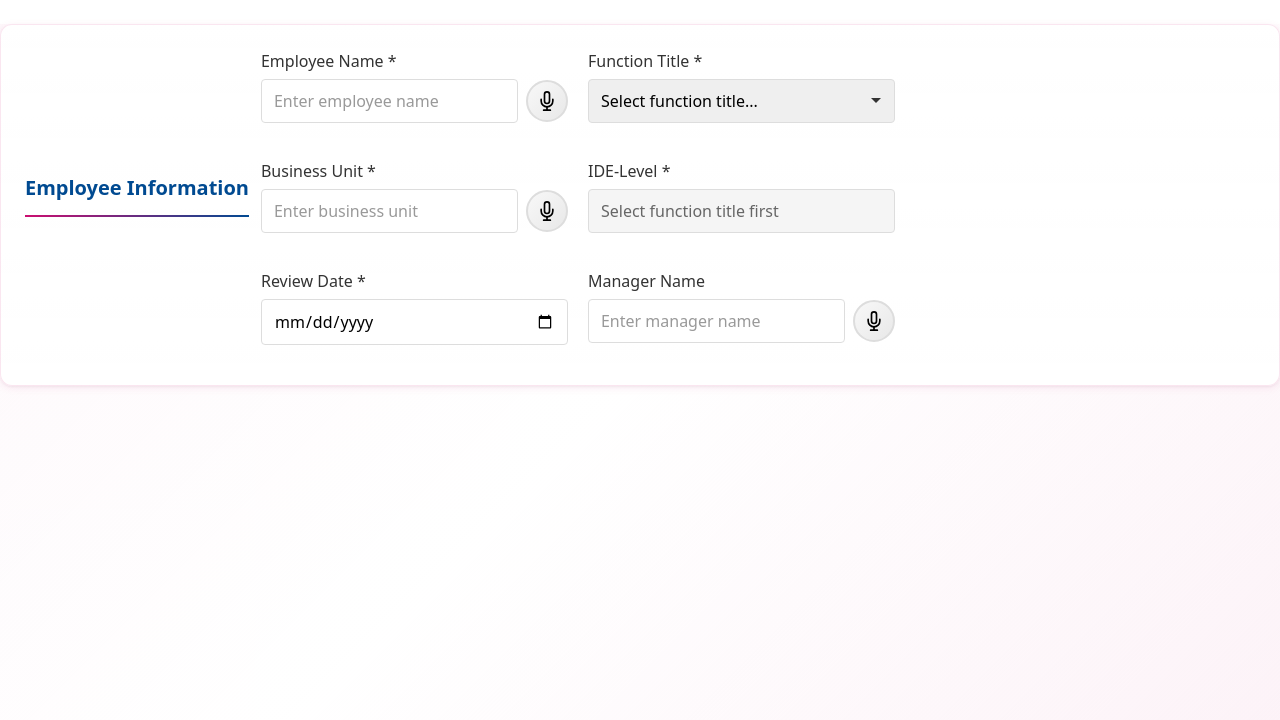
Test: EmployeeInfo › should show warning for function titles without TOV level mapping (non-HR user)
The width and height of the screenshot is (1280, 720).
# Select the function title without mapping
Step 1. Select "Intern" in the dropdown labelled "Function Title *" → x=742, y=101, box [588,79,895,123]
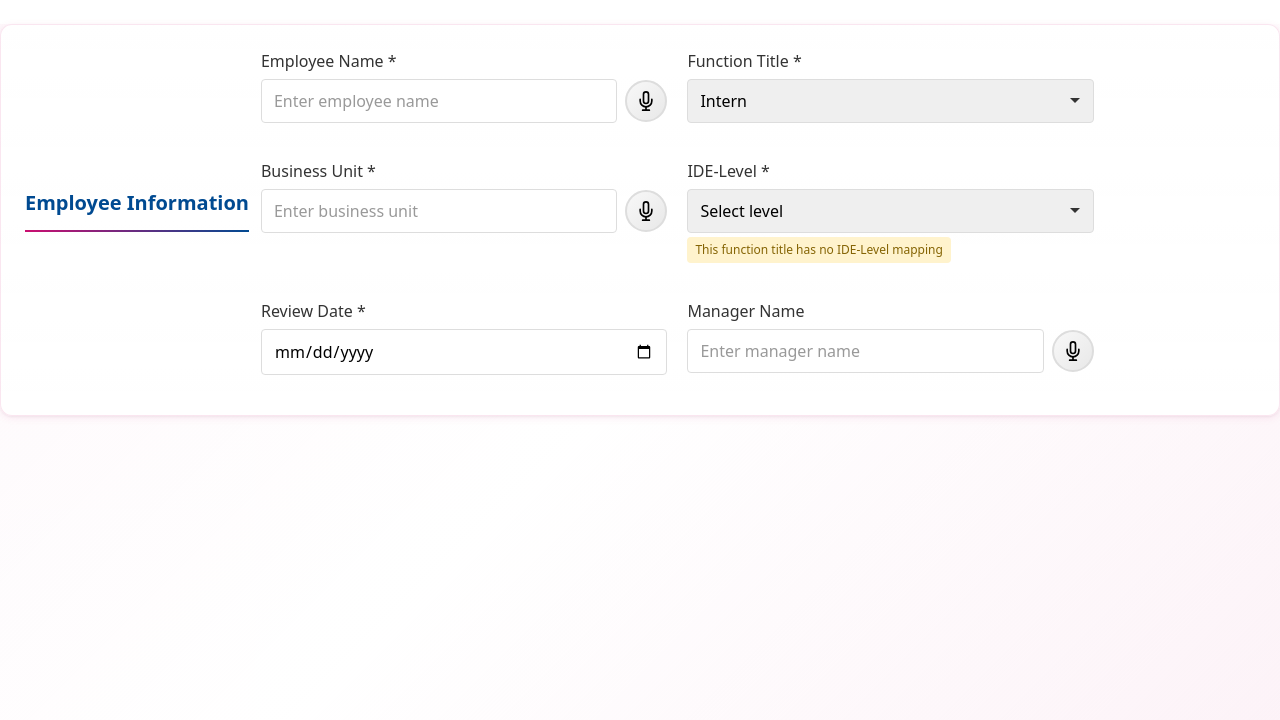
Expected: the text "This function title has no IDE-Level mapping" is shown, [687,237,951,263]
